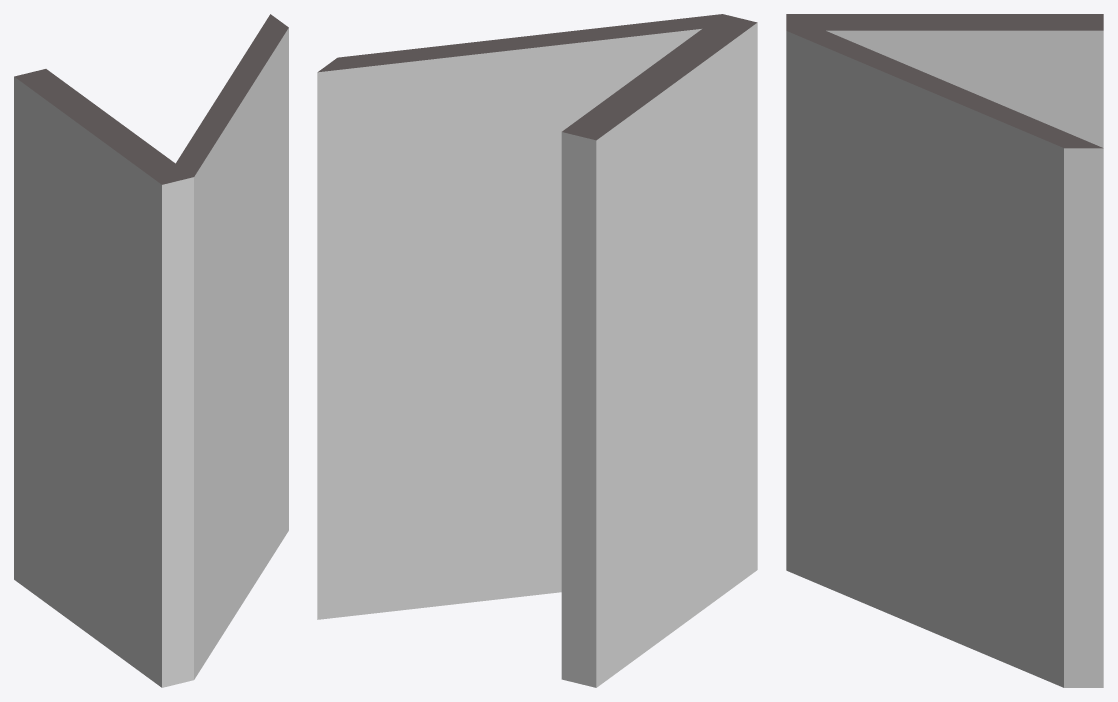
3 renders of one model, left to right at view 1: azimuth 30°, elevation 25°; view 2: azimuth 150°, elevation 25°; view 3: azimuth 270°, elevation 25°, orthographic. The views are drawn at different scales.
Bounding box in the file's own units: 128 × 240 × 128.
Materials: 1 (1 with a texture image).
